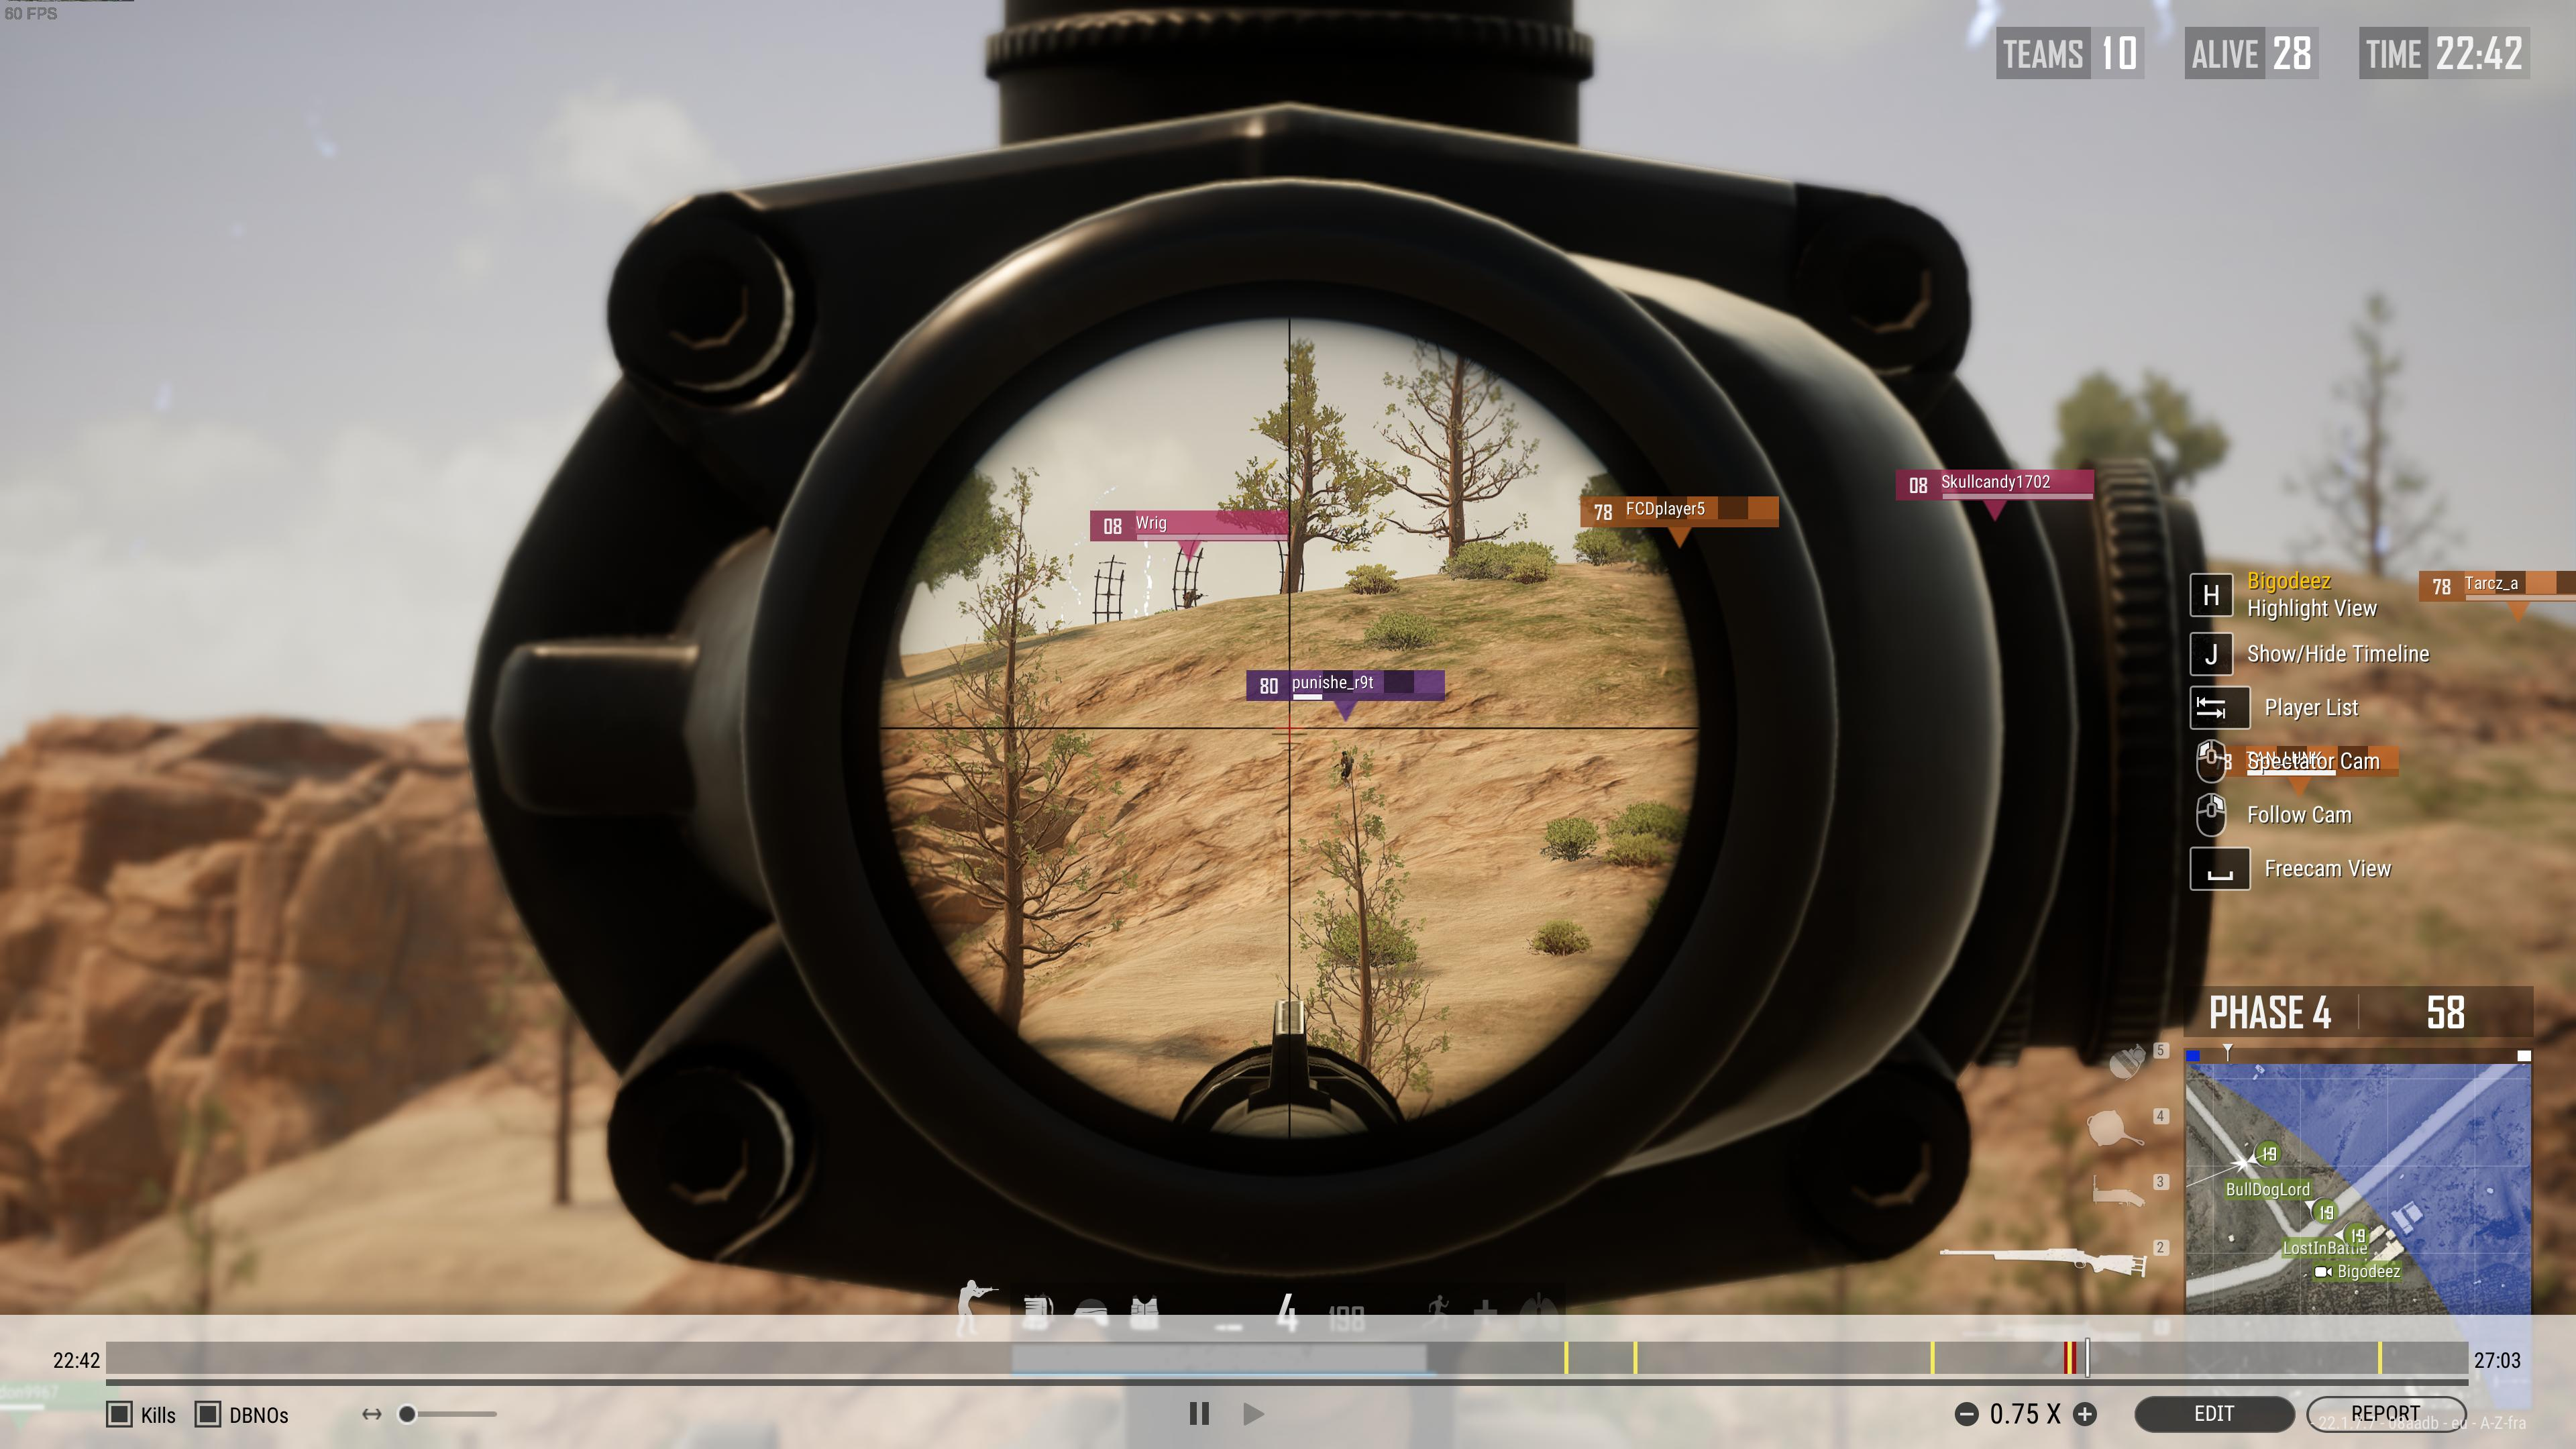enemy: (1336, 750, 1352, 786), (1182, 589, 1200, 609)
enemy_head: (1341, 750, 1346, 757), (1189, 589, 1196, 594)
